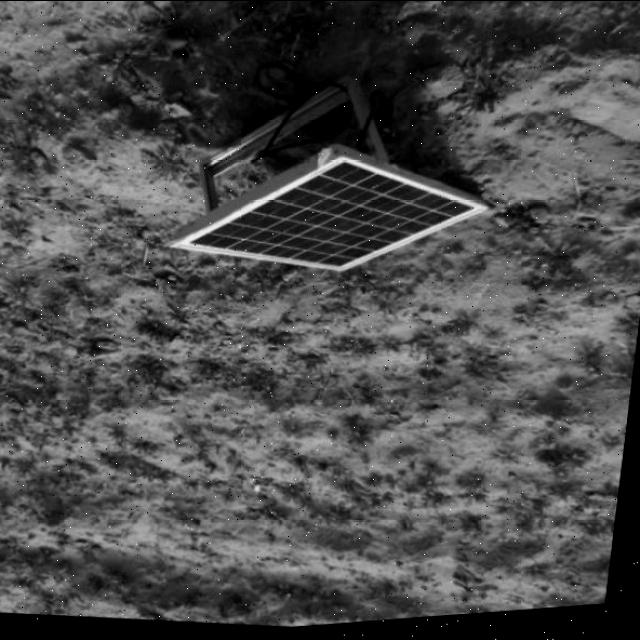Normal Solar Panel: (173, 138, 482, 304)
